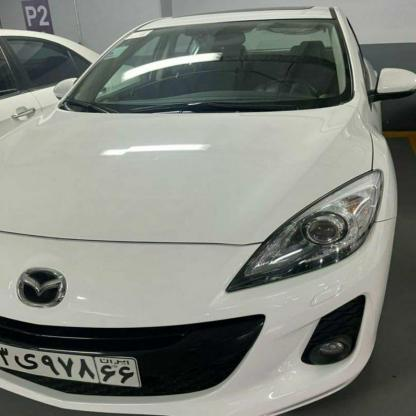Car: (0, 0, 416, 416), (0, 24, 136, 115)
